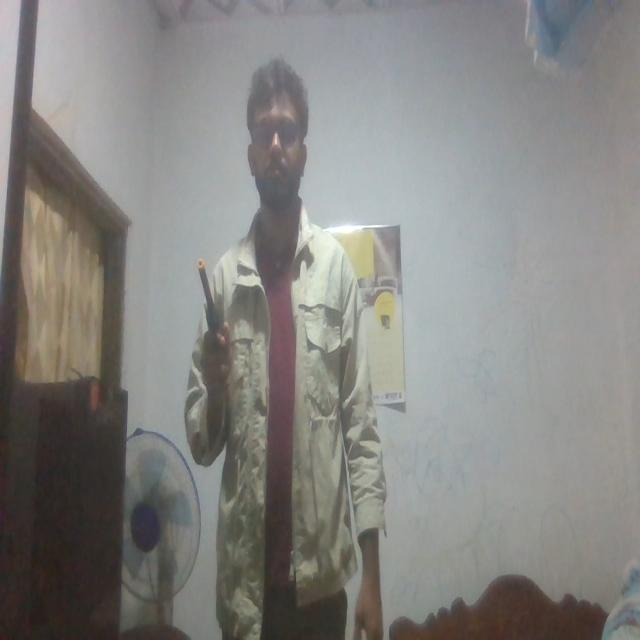Gun_Holder: (192, 253, 233, 388)
Jacket_Wearer: (186, 218, 386, 580)
Person: (184, 62, 386, 640)
